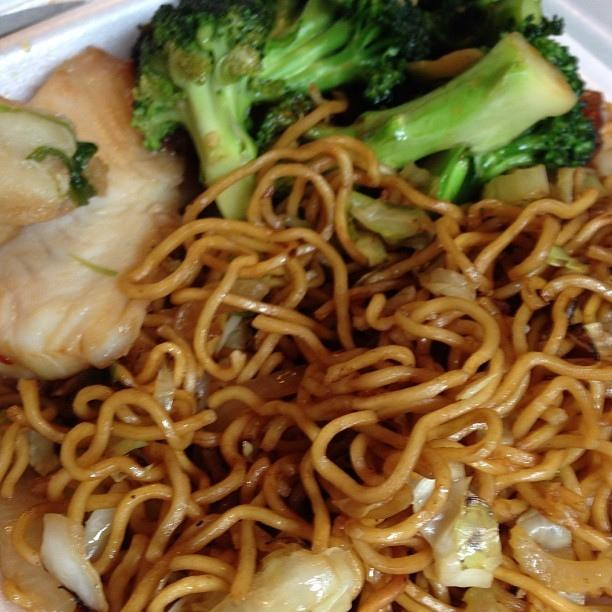broccoli: (254, 34, 576, 204), (131, 0, 278, 222), (464, 14, 600, 186), (253, 0, 444, 103), (426, 0, 542, 61)
onion: (420, 476, 502, 588), (210, 550, 342, 612), (508, 524, 612, 596), (39, 512, 110, 608), (173, 278, 270, 340), (0, 558, 76, 612), (482, 164, 552, 206), (311, 547, 355, 612), (520, 512, 572, 552), (83, 507, 118, 562), (28, 430, 61, 478), (462, 587, 516, 612), (573, 167, 609, 202), (152, 368, 176, 412), (418, 272, 454, 296)
